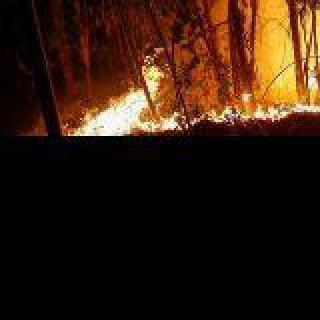fire: (68, 50, 252, 134), (280, 0, 320, 92)
